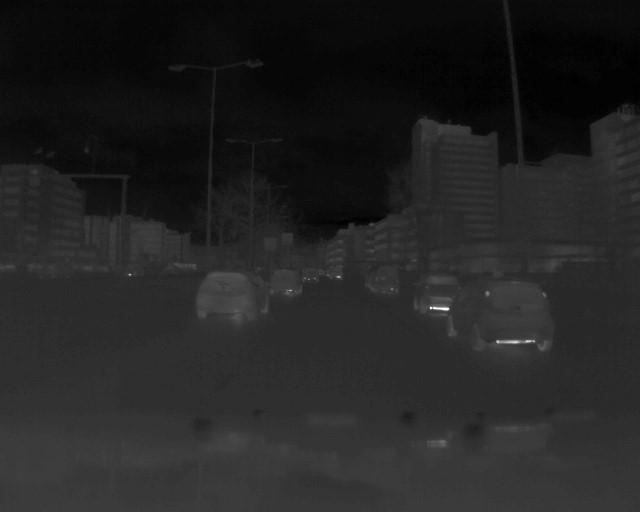car: (447, 276, 562, 354), (195, 267, 275, 321), (412, 270, 461, 315), (363, 264, 402, 296), (269, 265, 305, 299)
